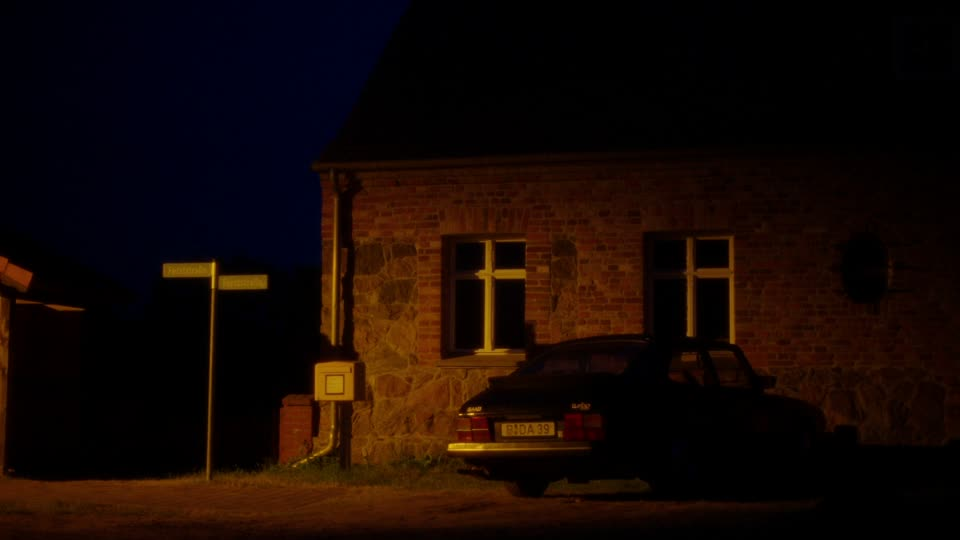car: (445, 328, 841, 508)
